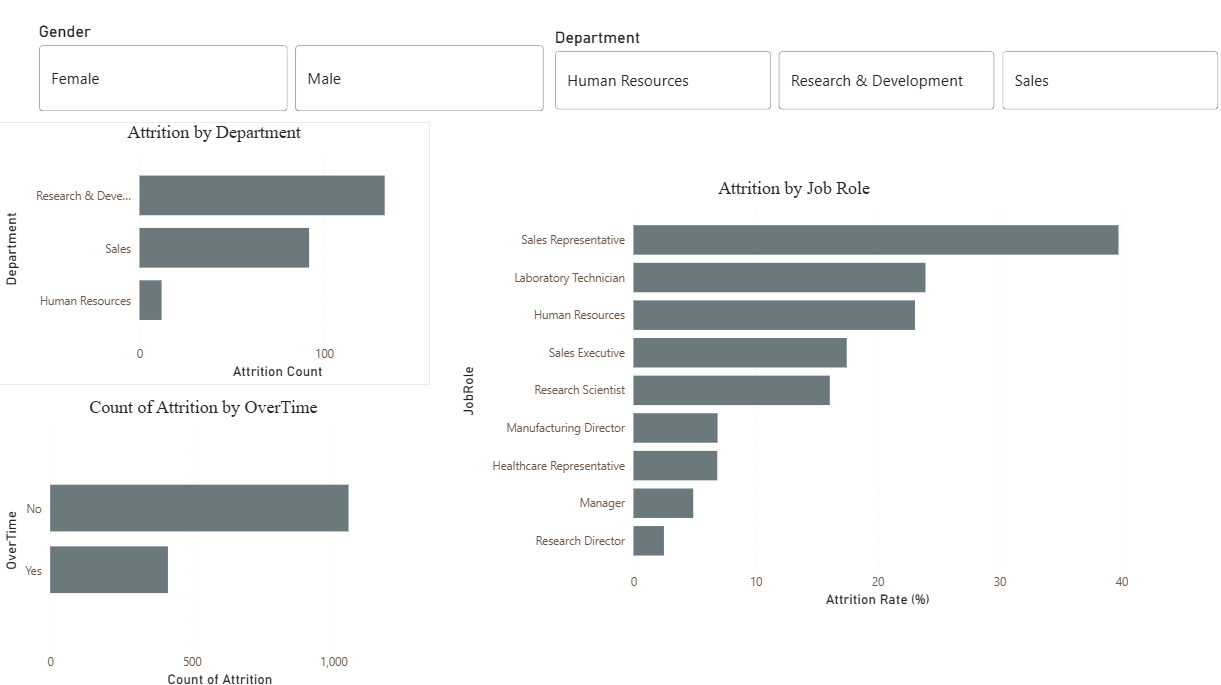

The dashboard page shown, as its layout file describes it:
{"tool":"powerbi","page":{"name":"Attrition Analysis","canvas":[1280,720],"ordinal":1},"visuals":[{"type":"clusteredBarChart","title":"Attrition by Department","fields":{"Y":["employee.Attrition Count"],"Category":["employee.Department"]},"box":[0,128.8,450.1,272],"z":0},{"type":"clusteredBarChart","title":"Attrition by Job Role","fields":{"Category":["employee.JobRole"],"Y":["employee.Attrition Rate (%)"]},"box":[476.8,185.7,705.4,451.8],"z":1000},{"type":"clusteredBarChart","fields":{"Category":["employee.OverTime"],"Y":["CountNonNull(employee.Attrition)"]},"box":[0,413.6,427.9,307],"z":2000},{"type":"advancedSlicerVisual","fields":{"Values":["employee.Gender"]},"box":[38.2,23.9,536,98.6],"z":3000},{"type":"advancedSlicerVisual","fields":{"Values":["employee.Department"]},"box":[575,30.4,703.6,91.1],"z":4000}]}

Visuals, with their boxes in screenshot pixels (x1, y1, x2, y2), scaled from the page's 1280x720 canvas onto the 1221x685 screenshot:
"Attrition by Department" clusteredBarChart: box(0, 123, 429, 381)
"Attrition by Job Role" clusteredBarChart: box(455, 177, 1128, 607)
clusteredBarChart - employee.OverTime x CountNonNull(employee.Attrition): box(0, 393, 408, 684)
advancedSlicerVisual - employee.Gender: box(36, 23, 548, 117)
advancedSlicerVisual - employee.Department: box(548, 29, 1220, 116)
